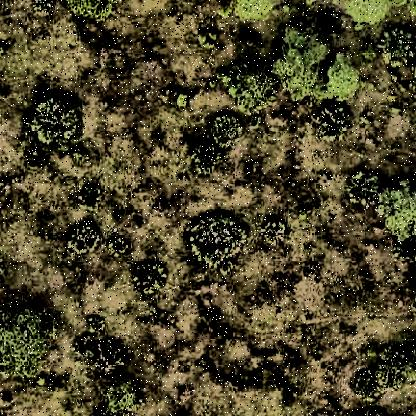tree-top: (269, 29, 363, 104), (1, 295, 59, 385), (185, 213, 247, 275), (216, 58, 276, 118), (23, 93, 87, 149), (381, 173, 416, 241), (374, 346, 416, 390), (100, 375, 148, 413), (339, 2, 409, 25), (347, 168, 383, 208), (217, 1, 281, 22), (59, 1, 117, 24), (67, 223, 103, 259)
